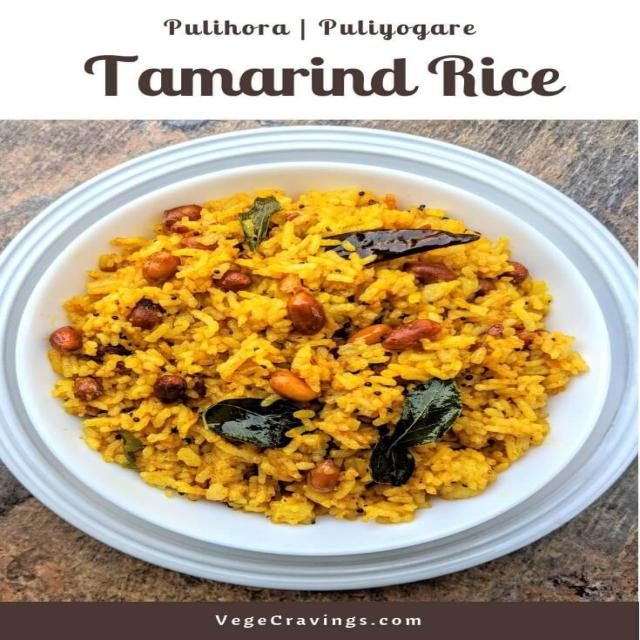puliyogare: (12, 168, 606, 558)
